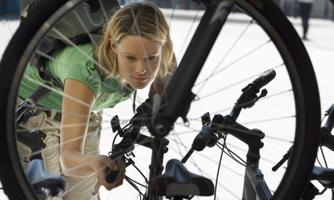person: (17, 3, 177, 200)
